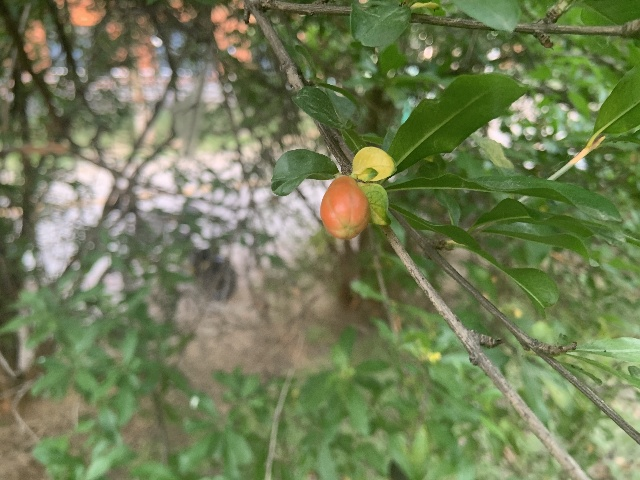bud: (320, 175, 369, 240)
